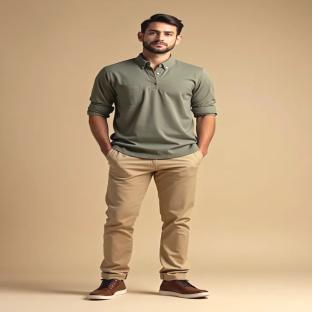Human: (88, 13, 217, 299)
